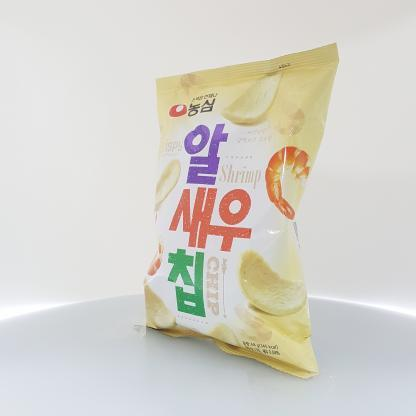Plastic Packaging: (130, 35, 350, 388)
